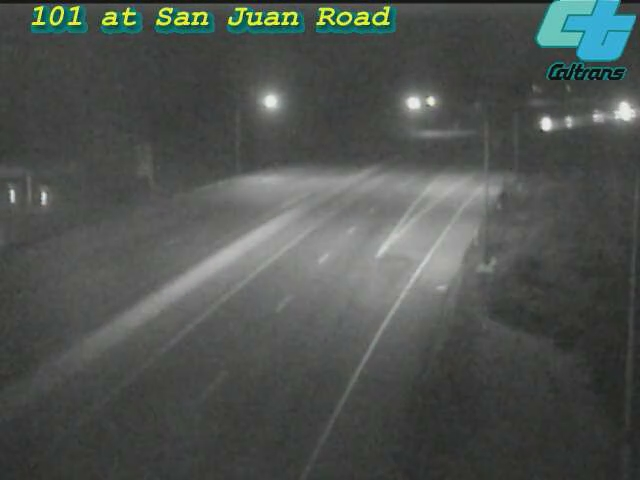vehicle: (1, 253, 58, 333), (569, 91, 619, 141), (542, 98, 592, 148), (511, 101, 561, 151), (591, 91, 640, 141), (598, 85, 640, 135)
